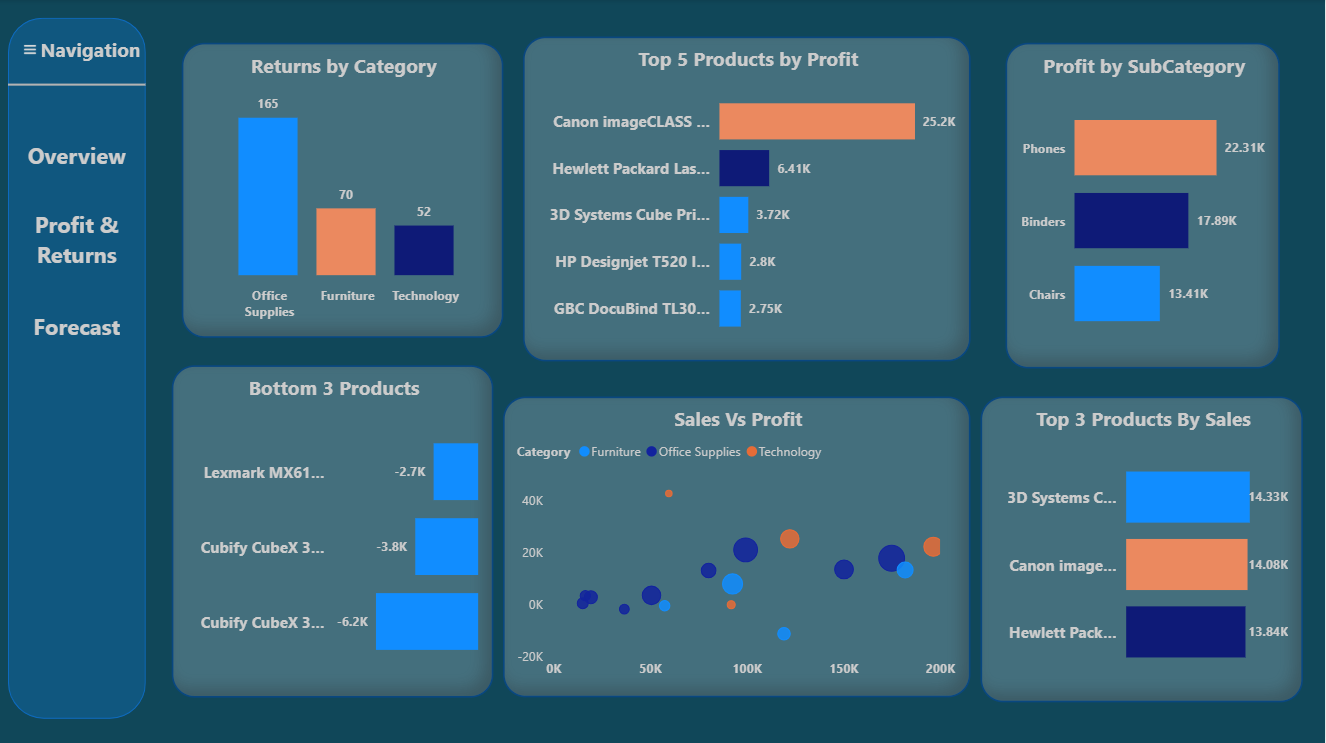

This screenshot's page, from the dashboard's own definition file:
{"tool":"powerbi","page":{"name":"Profit Analysis","canvas":[1280,720],"ordinal":1},"visuals":[{"type":"barChart","title":"Top 5 Products by Profit","fields":{"Category":["SuperStore_Sales_Dataset.Product Name"],"Y":["Sum(SuperStore_Sales_Dataset.Profit)"]},"box":[506.7,36.2,431.9,313.7],"z":0},{"type":"barChart","title":"Top 3 Products By Sales","fields":{"Category":["SuperStore_Sales_Dataset.Product Name"],"Y":["Sum(SuperStore_Sales_Dataset.Sales)"]},"box":[948.2,384.2,311.5,295],"z":1000},{"type":"shape","box":[9.6,17.8,133.1,676.5],"z":2000},{"type":"barChart","title":"Profit by SubCategory","fields":{"Category":["SuperStore_Sales_Dataset.Sub-Category"],"Y":["Sum(SuperStore_Sales_Dataset.Profit)"]},"box":[972.9,42.5,264.8,314.2],"z":4000},{"type":"clusteredColumnChart","title":" Returns by Category","fields":{"Y":["Sum(SuperStore_Sales_Dataset.Returns)"],"Category":["SuperStore_Sales_Dataset.Category"]},"box":[177.3,42.2,310.1,284.7],"z":5000},{"type":"scatterChart","title":"Sales Vs Profit ","fields":{"Series":["SuperStore_Sales_Dataset.Category"],"Size":["Sum(SuperStore_Sales_Dataset.Quantity)"],"X":["Sum(SuperStore_Sales_Dataset.Sales)"],"Y":["Sum(SuperStore_Sales_Dataset.Profit)"],"Category":["SuperStore_Sales_Dataset.Sub-Category"]},"box":[487.4,383.6,451.2,290.8],"z":6000},{"type":"shape","box":[15.9,117.5,120.8,67.2],"z":7000},{"type":"shape","box":[15.9,282.1,120.8,67.2],"z":8000},{"type":"shape","box":[15.9,198.4,120.8,67.2],"z":9000},{"type":"shape","box":[9.7,73.6,132.7,18.1],"z":10000},{"type":"shape","box":[42.2,14.5,94.1,67.6],"z":11000},{"type":"image","box":[0,31.6,61.7,34.3],"z":12000},{"type":"barChart","title":"Bottom 3 Products","fields":{"Y":["Sum(SuperStore_Sales_Dataset.Profit)"],"Category":["SuperStore_Sales_Dataset.Product Name"]},"box":[167.4,354,310.1,321.1],"z":12001}]}

Visuals, with their boxes in screenshot pixels (x1, y1, x2, y2), scaled from the page's 1280x720 canvas onto the 1326x743 screenshot:
"Top 5 Products by Profit" barChart: l=525, t=37, r=972, b=361
"Top 3 Products By Sales" barChart: l=982, t=396, r=1305, b=701
shape: l=10, t=18, r=148, b=716
"Profit by SubCategory" barChart: l=1008, t=44, r=1282, b=368
" Returns by Category" clusteredColumnChart: l=184, t=44, r=505, b=337
"Sales Vs Profit " scatterChart: l=505, t=396, r=972, b=696
shape: l=16, t=121, r=142, b=191
shape: l=16, t=291, r=142, b=360
shape: l=16, t=205, r=142, b=274
shape: l=10, t=76, r=148, b=95
shape: l=44, t=15, r=141, b=85
image: l=0, t=33, r=64, b=68
"Bottom 3 Products" barChart: l=173, t=365, r=495, b=697
